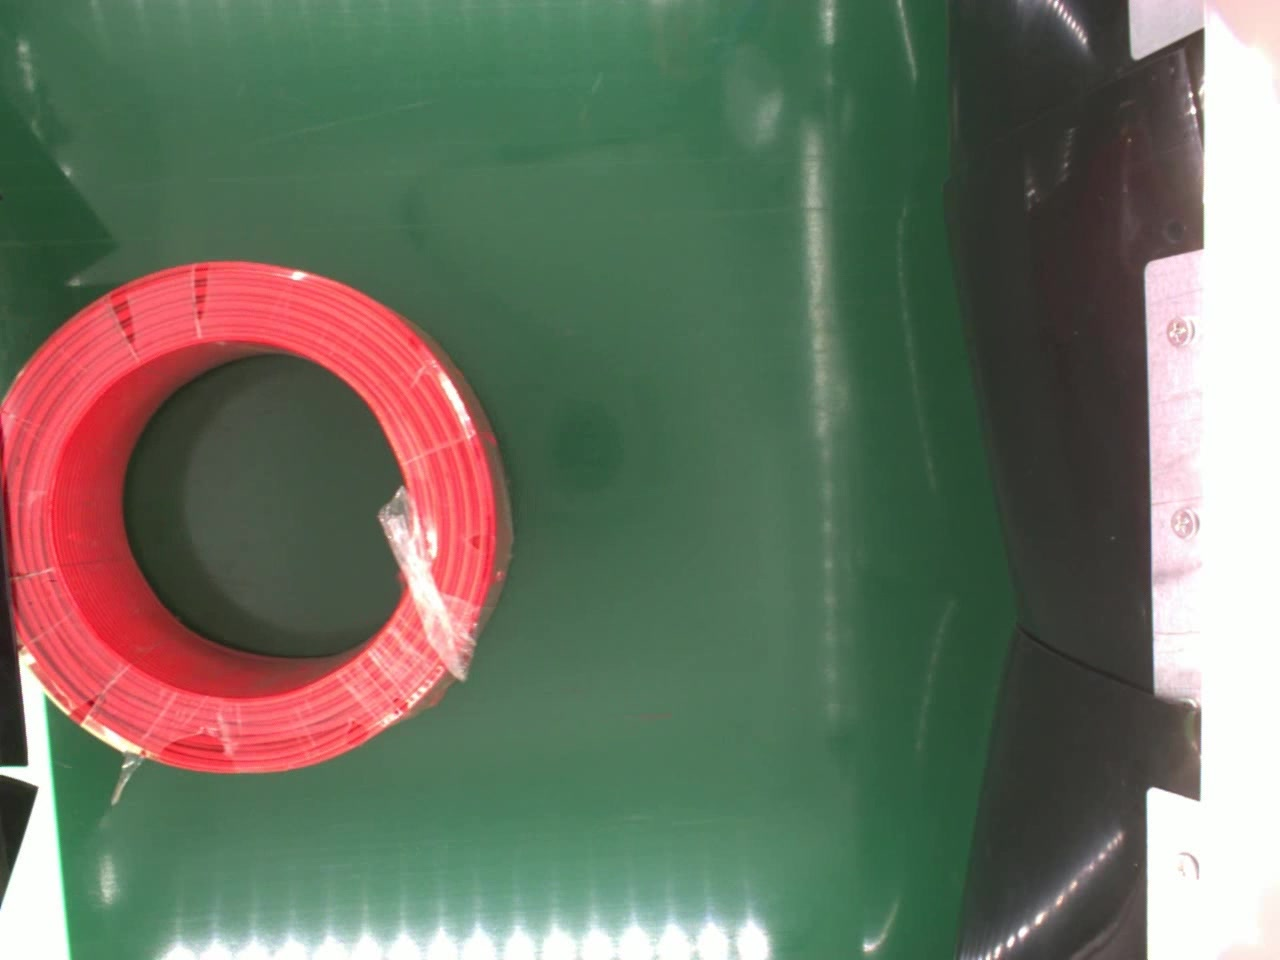red: (0, 254, 513, 777)
